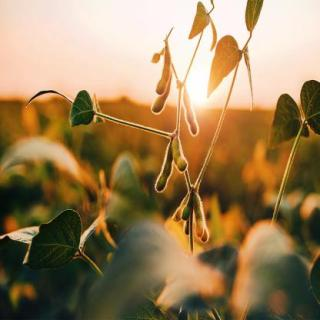soya: (154, 141, 173, 193), (183, 87, 198, 135), (155, 46, 170, 93), (172, 136, 188, 172), (192, 192, 203, 238), (149, 96, 170, 116), (181, 194, 194, 220), (200, 229, 212, 243), (172, 205, 180, 222), (184, 222, 189, 236)
